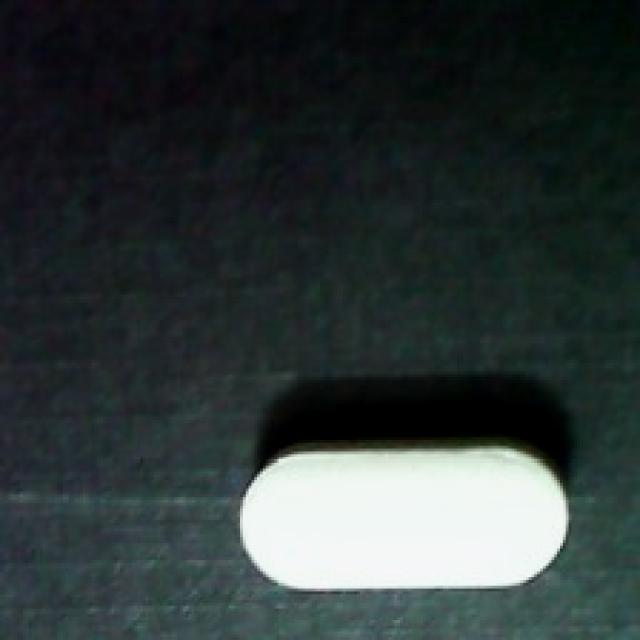no-defect: (234, 426, 574, 591)
